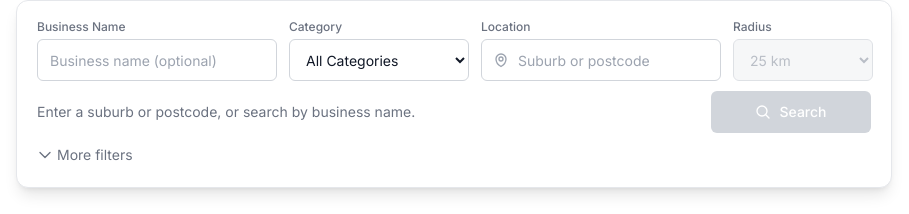
SearchBar › hides helper text when business name is entered
In the field with placeholder "Business name (optional)": (157, 60) [37,39,277,81], type "Test"
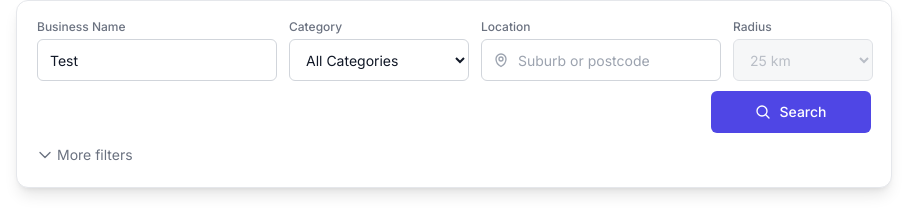
Now the text "Enter a suburb or postcode, or search by business name." is gone
